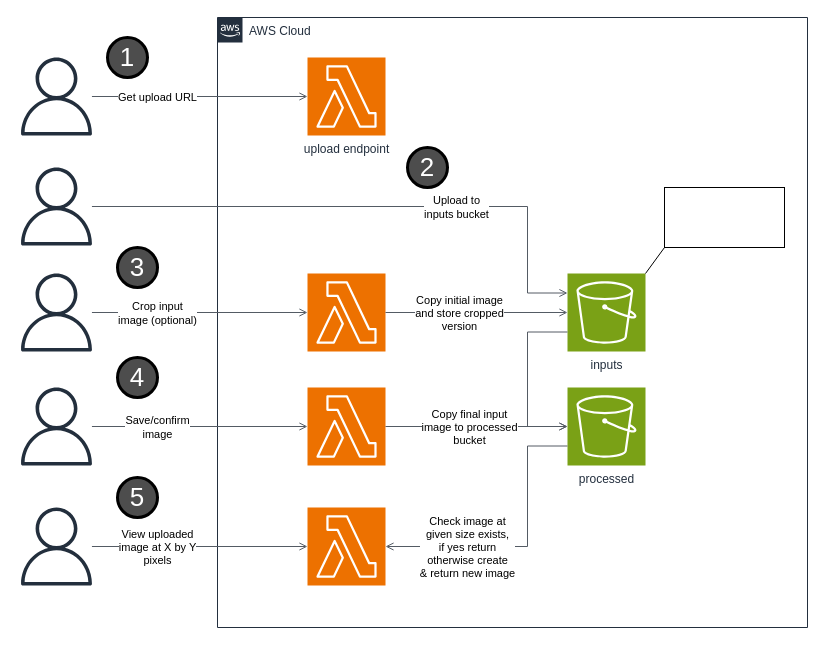
The diagram is 825 pixels wide and 645 high, and some of its shapes have lost their labels. Here are the shapes that lost their labels. From the top down, the box of each, then its label:
(664, 186, 784, 248): Lifecycle rule to delete images after 24 hours
(306, 272, 386, 352): crop endpoint
(306, 386, 386, 466): save endpoint
(306, 506, 386, 586): view endpoint
